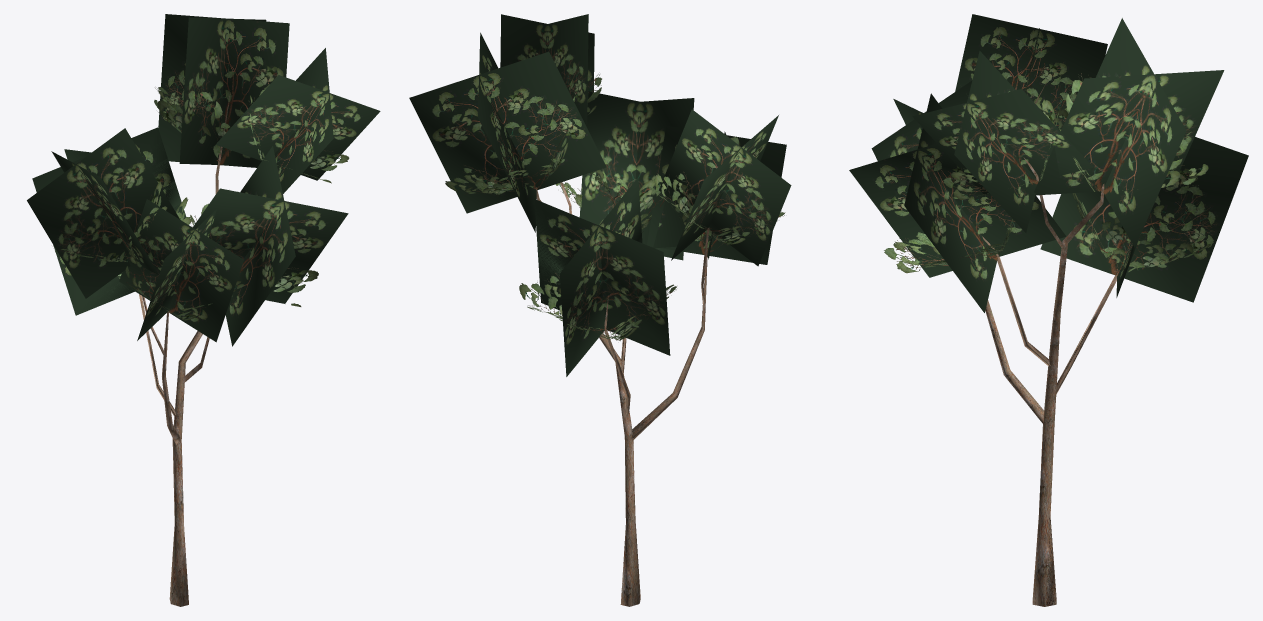
File: decd_ginkgotreeleaves_a2_l0.fbx
3 views of the same model, side by side, from view 1: azimuth 30°, elevation 25°; view 2: azimuth 150°, elevation 25°; view 3: azimuth 270°, elevation 25° (orthographic). The views are drawn at different scales.
Visible parts, largest first — view 1: mesh_node; view 2: mesh_node; view 3: mesh_node.
Boxes of the visible parts, <box> form: mesh_node: <box>27,14,380,606</box>; mesh_node: <box>409,14,791,606</box>; mesh_node: <box>849,14,1248,606</box>.
Size of the model in its own units: 1.95 by 3.1 by 1.85.
